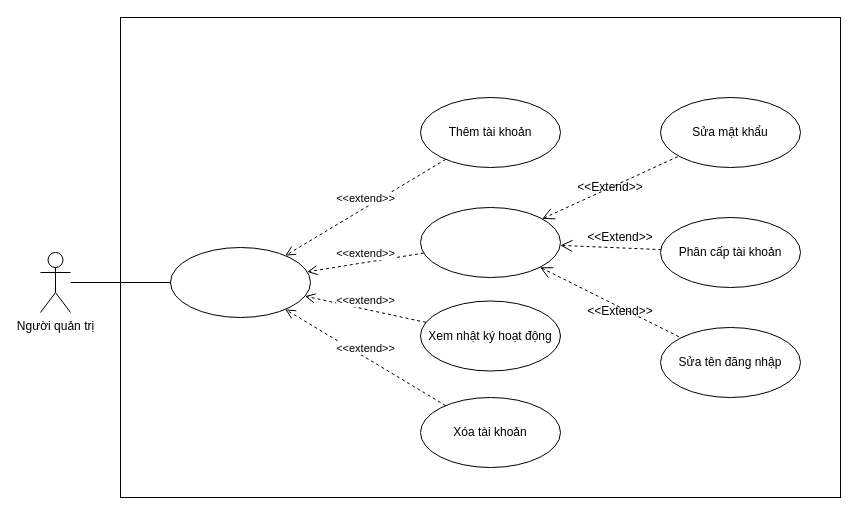
The diagram is 858 pixels wide and 515 high, and some of its shapes have lost their labels. The box of each missing label's shape, as (x1, y1, x2, y2) in pixels:
Quản trị hệ thống: (170, 246, 310, 318)
Sửa tài khoản: (420, 206, 560, 278)
